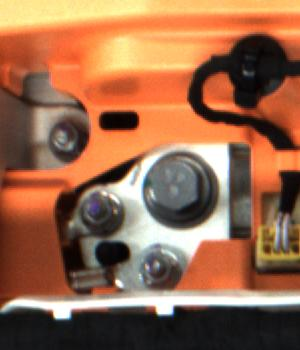nut_b: (139, 137, 217, 225)
